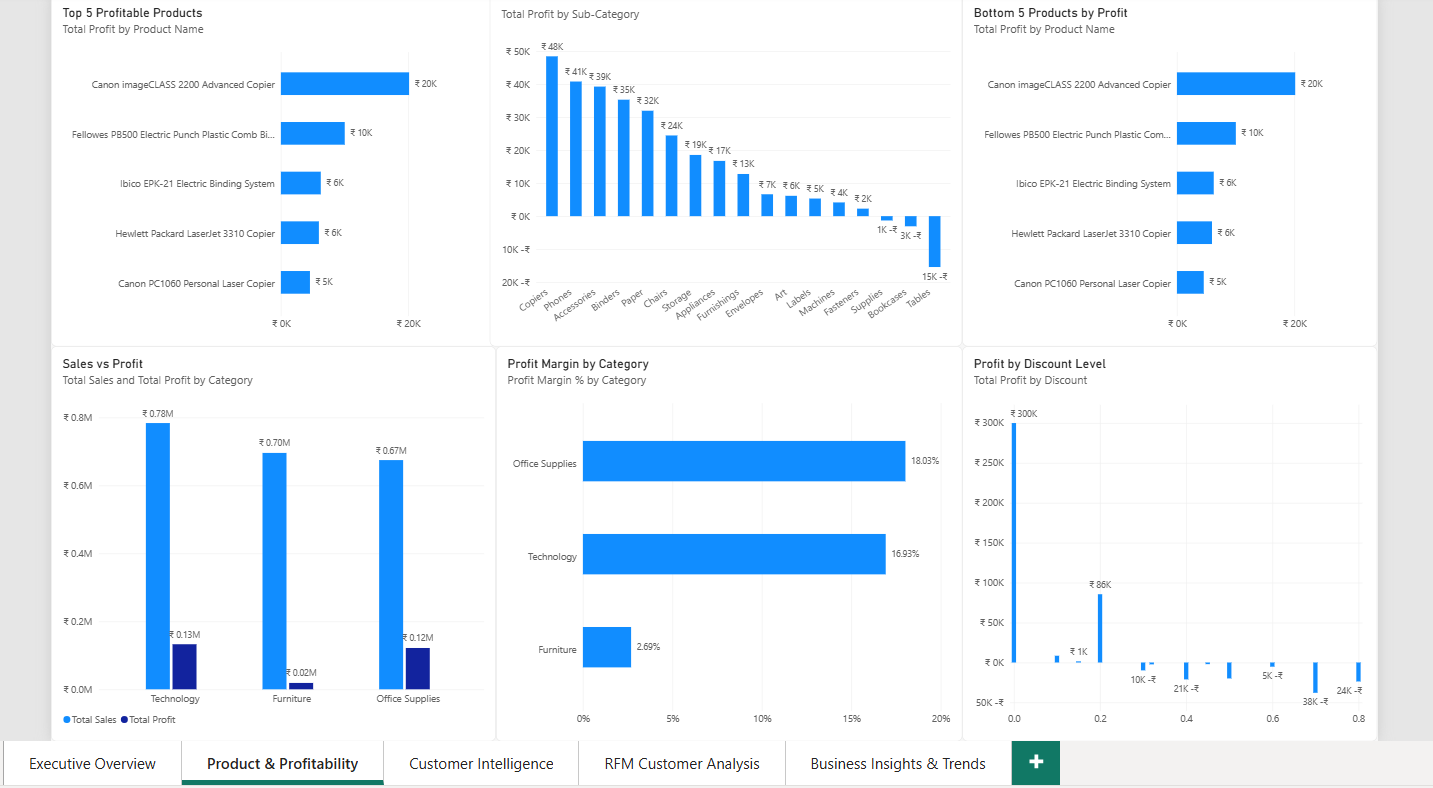

The dashboard page shown, as its layout file describes it:
{"tool":"powerbi","page":{"name":"Product & Profitability","canvas":[1920,1080],"ordinal":1},"visuals":[{"type":"clusteredBarChart","title":"Top 5 Profitable Products","fields":{"Category":["Orders.Product Name"],"Y":["Orders.Total Profit"]},"box":[0,0,644.2,508.5],"z":0},{"type":"clusteredColumnChart","fields":{"Category":["Orders.Sub-Category"],"Y":["Orders.Total Profit"]},"box":[635.2,0,684.1,508.5],"z":1000},{"type":"clusteredColumnChart","title":"Sales vs Profit","fields":{"Category":["Orders.Category"],"Y":["Orders.Total Sales","Orders.Total Profit"]},"box":[0,508.5,644.2,571.9],"z":2000},{"type":"clusteredBarChart","title":"Profit Margin by Category","fields":{"Category":["Orders.Category"],"Y":["Orders.Profit Margin %"]},"box":[644.2,508.5,675,571.9],"z":3000},{"type":"clusteredBarChart","title":"Bottom 5 Products by Profit","fields":{"Category":["Orders.Product Name"],"Y":["Orders.Total Profit"]},"box":[1319.2,0,600.8,508.5],"z":4000},{"type":"clusteredColumnChart","title":"Profit by Discount Level","fields":{"Category":["Orders.Discount"],"Y":["Orders.Total Profit"]},"box":[1319.2,508.5,600.8,571.9],"z":5000}]}

Visuals, with their boxes on the page's 1920x1080 design canvas (x1, y1, x2, y2). These are canvas units, not pixel positions in the 1433x788 screenshot, which may show the page scaled, cropped or inside an application window:
"Top 5 Profitable Products" clusteredBarChart: l=0, t=0, r=644, b=508
clusteredColumnChart - Orders.Sub-Category x Orders.Total Profit: l=635, t=0, r=1319, b=508
"Sales vs Profit" clusteredColumnChart: l=0, t=508, r=644, b=1080
"Profit Margin by Category" clusteredBarChart: l=644, t=508, r=1319, b=1080
"Bottom 5 Products by Profit" clusteredBarChart: l=1319, t=0, r=1920, b=508
"Profit by Discount Level" clusteredColumnChart: l=1319, t=508, r=1920, b=1080
